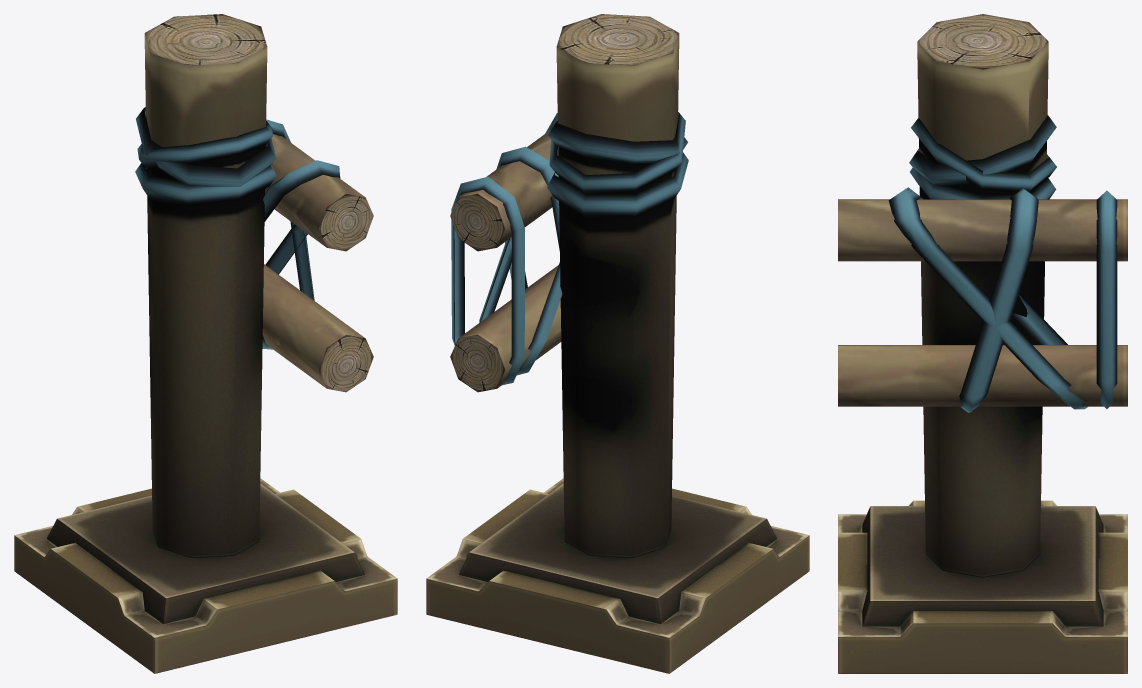
File: trap_445_xbfence_04.fbx
3 views of the same model, side by side, from view 1: azimuth 30°, elevation 25°; view 2: azimuth 150°, elevation 25°; view 3: azimuth 270°, elevation 25° (orthographic). The views are drawn at different scales.
Visible parts, largest first — view 1: trap_445_xbfence_04; view 2: trap_445_xbfence_04; view 3: trap_445_xbfence_04.
Boxes of the visible parts, box(x1,y1,x2,y2) form: trap_445_xbfence_04: box(14, 14, 397, 673); trap_445_xbfence_04: box(426, 14, 809, 673); trap_445_xbfence_04: box(838, 14, 1127, 673).
Size of the model in its own units: 0.2618 by 0.569 by 0.2618.
Materials: 1 (1 with a texture image).
